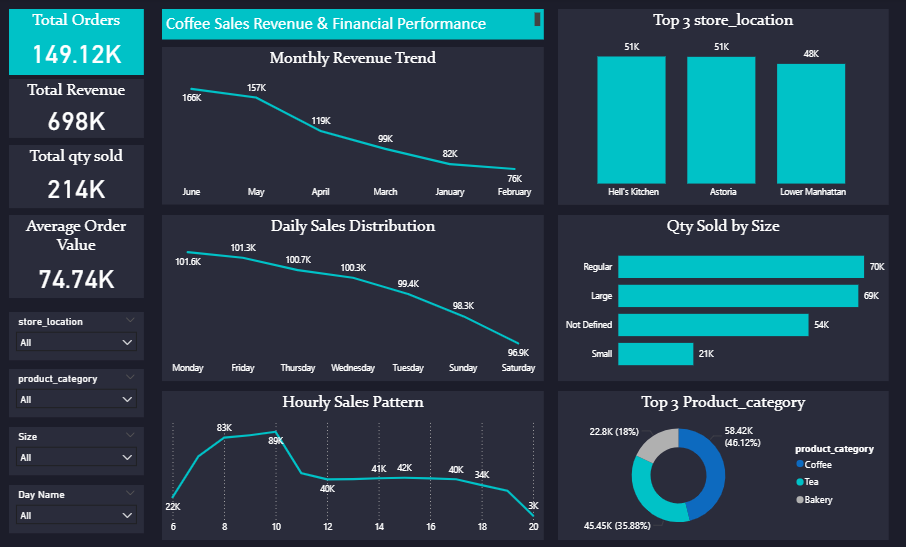

This screenshot's page, from the dashboard's own definition file:
{"tool":"powerbi","page":{"name":"Page 1","canvas":[1280,775],"ordinal":0},"visuals":[{"type":"card","title":"Total Revenue","fields":{"Values":["Sum(Project.Total_Bill)"]},"box":[15.4,114.1,189.6,83.3],"z":0},{"type":"card","title":"Total qty sold","fields":{"Values":["Sum(Project.transaction_qty)"]},"box":[15.4,206.6,189.6,89.4],"z":1000},{"type":"card","title":"Average Order Value ","fields":{"Values":["Avg(Project.transaction_id)"]},"box":[15.4,305.3,189.6,117.2],"z":2000},{"type":"card","title":"Total Orders","fields":{"Values":["Count(Project.transaction_id)"]},"box":[15.4,15.4,189.6,92.5],"z":3000},{"type":"lineChart","title":"Monthly Revenue Trend","fields":{"Category":["Project.Month Name"],"Y":["Sum(Project.Total_Bill)"]},"box":[231.3,69.4,538.1,222],"z":4000},{"type":"donutChart","title":" Top 3 Product_category","fields":{"Category":["Project.product_category"],"Y":["CountNonNull(Project.transaction_id)"]},"box":[789.4,553.5,465.6,209.7],"z":5000},{"type":"barChart","title":"Qty Sold by Size","fields":{"Category":["Project.Size"],"Y":["Sum(Project.transaction_qty)"]},"box":[789.4,305.3,465.6,234.4],"z":6000},{"type":"lineChart","title":"Daily Sales Distribution","fields":{"Y":["Sum(Project.Total_Bill)"],"Category":["Project.Day Name"]},"box":[231.3,305.3,538.1,234.4],"z":7000},{"type":"columnChart","title":"Top 3 store_location ","fields":{"Y":["Count(Project.transaction_id)"],"Category":["Project.store_location"]},"box":[789.4,15.4,465.6,276],"z":8000},{"type":"lineChart","title":"Hourly Sales Pattern","fields":{"Y":["Sum(Project.Total_Bill)"],"Category":["Project.Hour"]},"box":[231.3,553.5,538.1,209.7],"z":9000},{"type":"slicer","fields":{"Values":["Project.store_location"]},"box":[15.4,442.5,189.6,67.8],"z":10000},{"type":"slicer","fields":{"Values":["Project.product_category"]},"box":[15.4,522.7,189.6,67.8],"z":11000},{"type":"slicer","fields":{"Values":["Project.Size"]},"box":[15.4,604.4,189.6,67.8],"z":12000},{"type":"textbox","box":[231.3,15.4,538.1,43.2],"z":13000},{"type":"slicer","fields":{"Values":["Project.Day Name"]},"box":[15.4,686.1,189.6,67.8],"z":14000}]}

Visuals, with their boxes in screenshot pixels (x1, y1, x2, y2), scaled from the page's 1280x775 canvas onto the 906x547 screenshot:
"Total Revenue" card: 11 81 145 139
"Total qty sold" card: 11 146 145 209
"Average Order Value " card: 11 215 145 298
"Total Orders" card: 11 11 145 76
"Monthly Revenue Trend" lineChart: 164 49 545 206
" Top 3 Product_category" donutChart: 559 391 888 539
"Qty Sold by Size" barChart: 559 215 888 381
"Daily Sales Distribution" lineChart: 164 215 545 381
"Top 3 store_location " columnChart: 559 11 888 206
"Hourly Sales Pattern" lineChart: 164 391 545 539
slicer - Project.store_location: 11 312 145 360
slicer - Project.product_category: 11 369 145 417
slicer - Project.Size: 11 427 145 474
textbox: 164 11 545 41
slicer - Project.Day Name: 11 484 145 532
